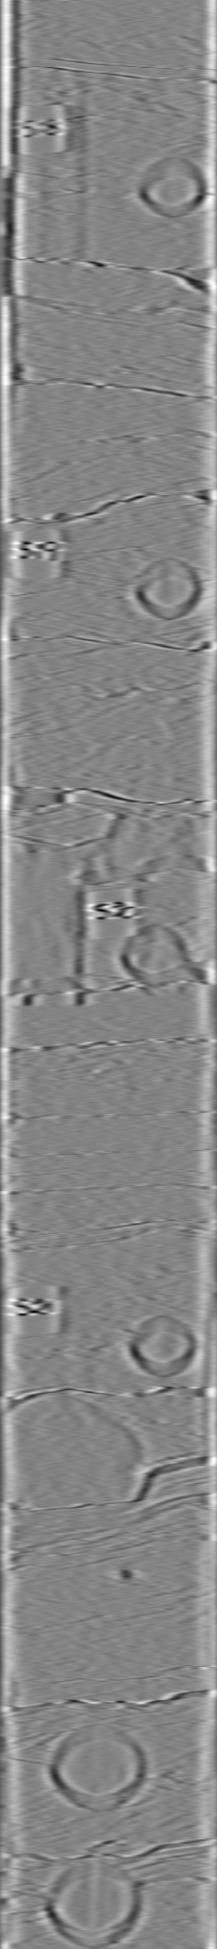hplug: (131, 147, 211, 222), (123, 1308, 201, 1381), (115, 915, 187, 993), (131, 551, 207, 621)
scal: (38, 1717, 155, 1815), (38, 1853, 140, 1949)
vplug: (17, 835, 93, 1011), (31, 83, 93, 290)
